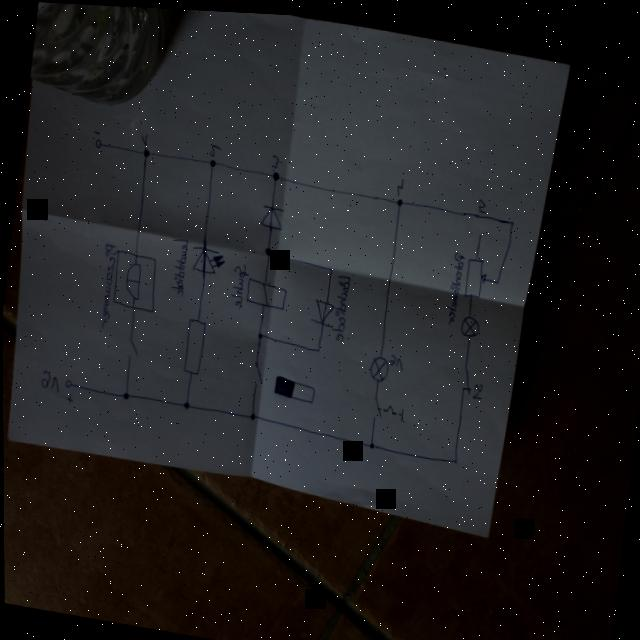diode: (188, 243, 228, 277), (256, 198, 284, 228), (308, 294, 335, 325)
inductor: (242, 272, 286, 308)
junction: (268, 166, 279, 180), (179, 396, 189, 409), (261, 242, 271, 254), (394, 192, 403, 204), (140, 145, 149, 157), (246, 408, 255, 419), (119, 389, 128, 400), (206, 155, 215, 166), (254, 327, 263, 337), (506, 212, 514, 222), (366, 437, 374, 446), (492, 272, 499, 280), (312, 342, 319, 350), (450, 452, 457, 460), (325, 262, 332, 269)
resistor: (179, 314, 206, 375), (460, 250, 487, 296)
switch: (368, 391, 403, 421), (455, 357, 473, 391), (122, 334, 140, 359), (248, 356, 263, 384)
terminal: (91, 135, 102, 149), (62, 376, 71, 390)
text: (92, 239, 118, 329), (441, 248, 463, 324), (326, 269, 349, 341), (166, 237, 188, 297), (225, 260, 246, 307), (36, 368, 61, 394), (384, 348, 403, 366), (468, 377, 482, 395), (206, 140, 219, 155), (474, 193, 486, 209), (268, 150, 278, 167), (394, 172, 404, 189), (136, 130, 148, 144)
